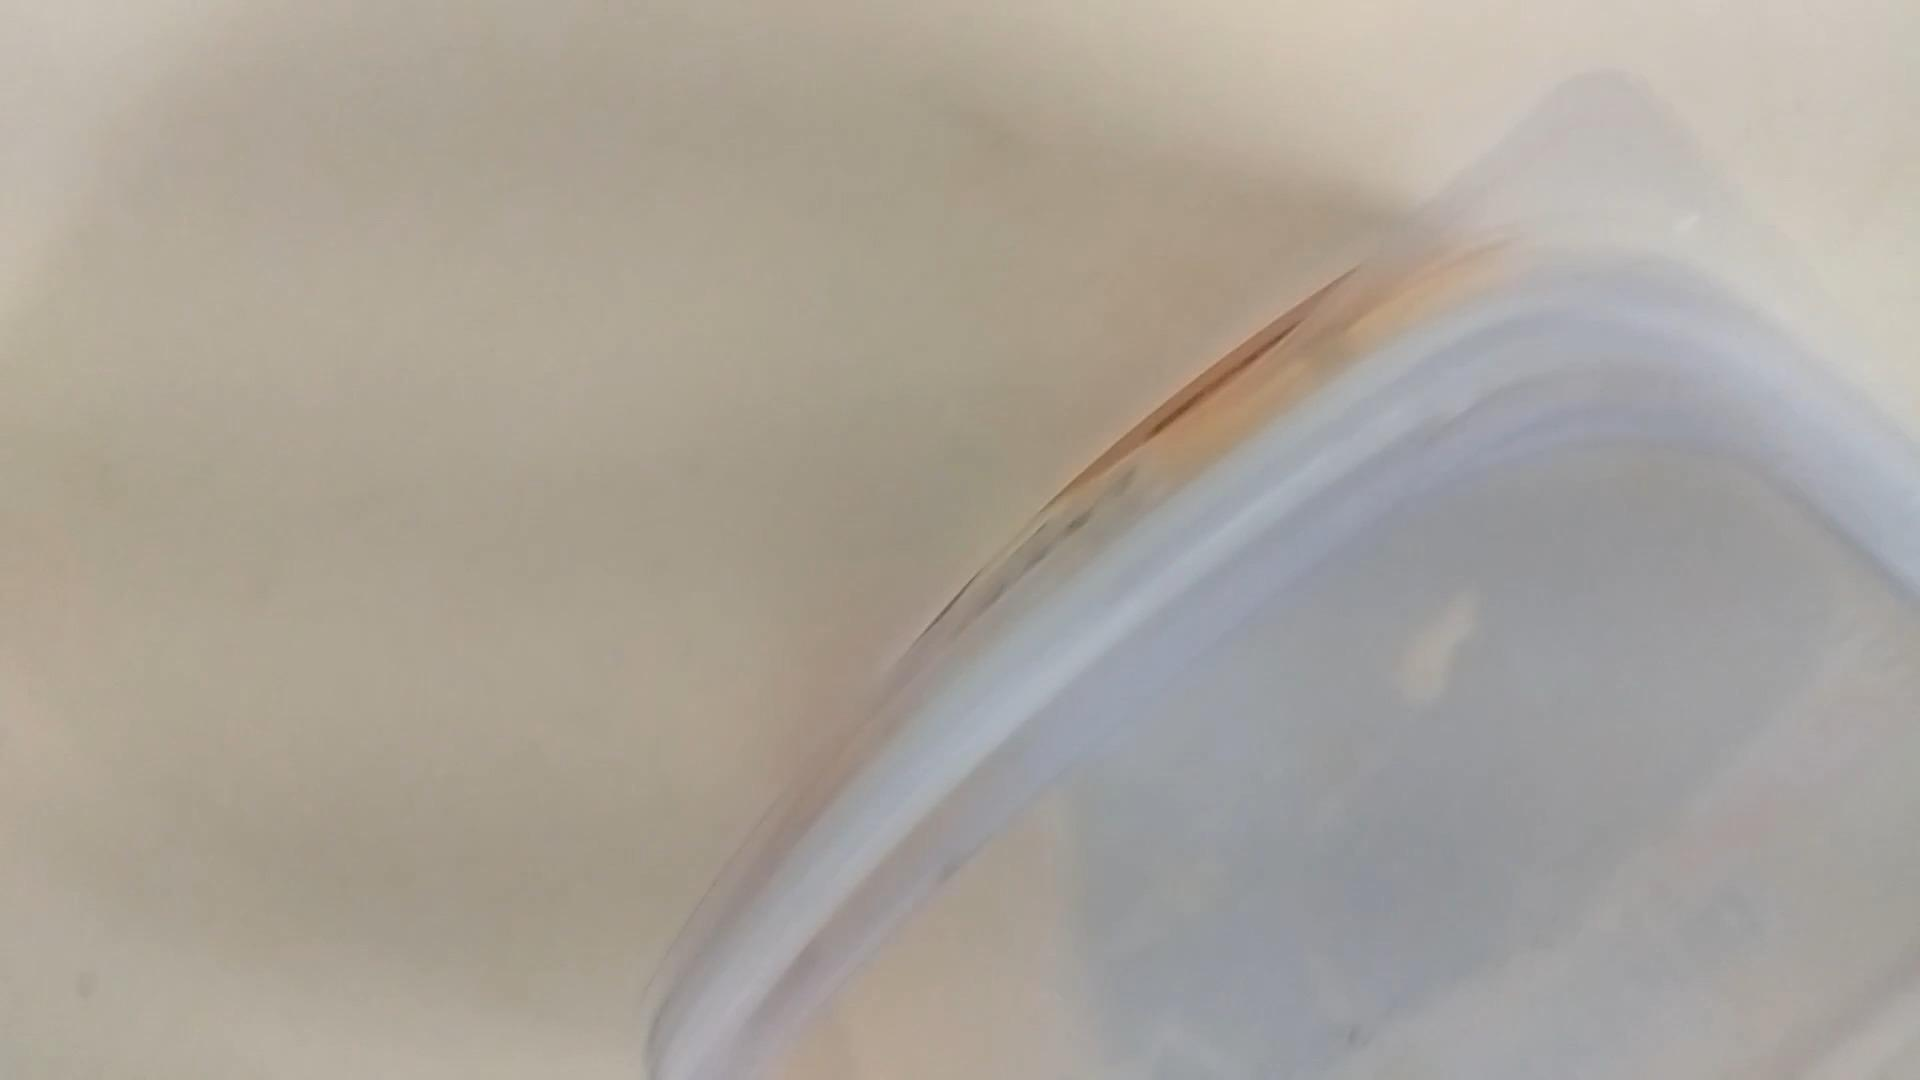butter: (666, 88, 1920, 1071)
